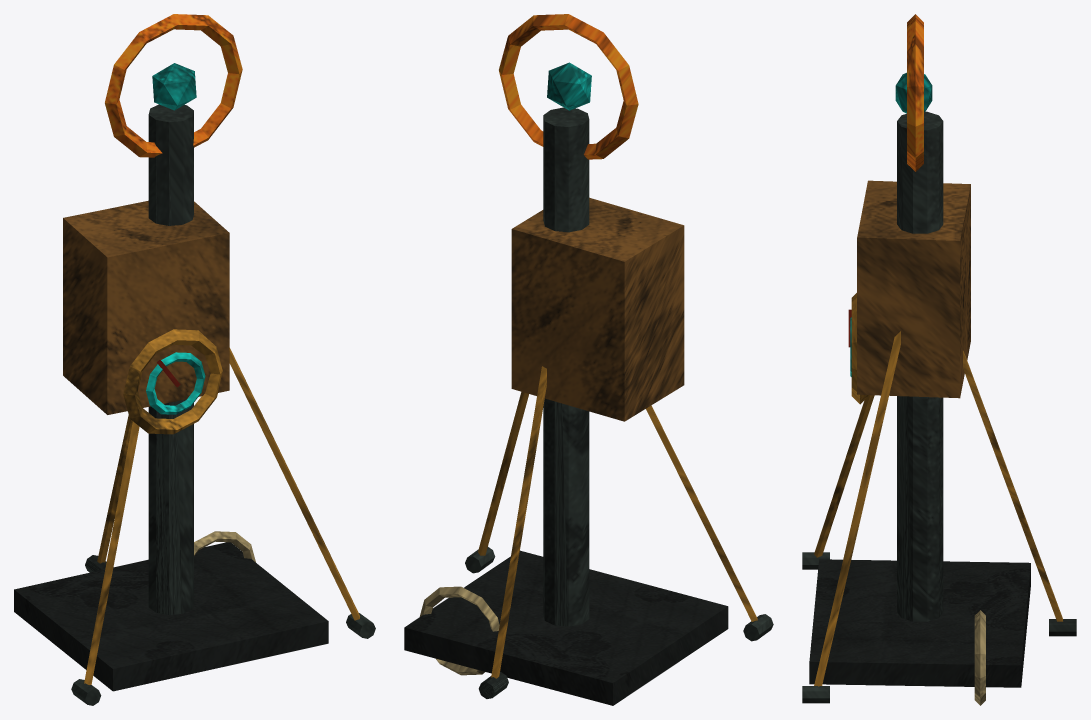
File: west-hollow-warning-pylon.glb
The picture shows the model from 3 angles, left to right: view 1: azimuth 30°, elevation 25°; view 2: azimuth 150°, elevation 25°; view 3: azimuth 270°, elevation 25°; orthographic projection.
Visible parts, largest first — view 1: west-hollow-warning-pylon; view 2: west-hollow-warning-pylon; view 3: west-hollow-warning-pylon.
Boxes of the visible parts, box(x1,y1,x2,y2) form: west-hollow-warning-pylon: box(14, 14, 375, 705); west-hollow-warning-pylon: box(404, 14, 773, 705); west-hollow-warning-pylon: box(802, 14, 1076, 705).
Bounding box in the file's own units: 4.34 × 9.23 × 3.56.
1 material, 1 textured.
